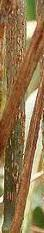Wheat: (1, 20, 41, 149), (12, 89, 43, 231), (5, 109, 23, 209)
